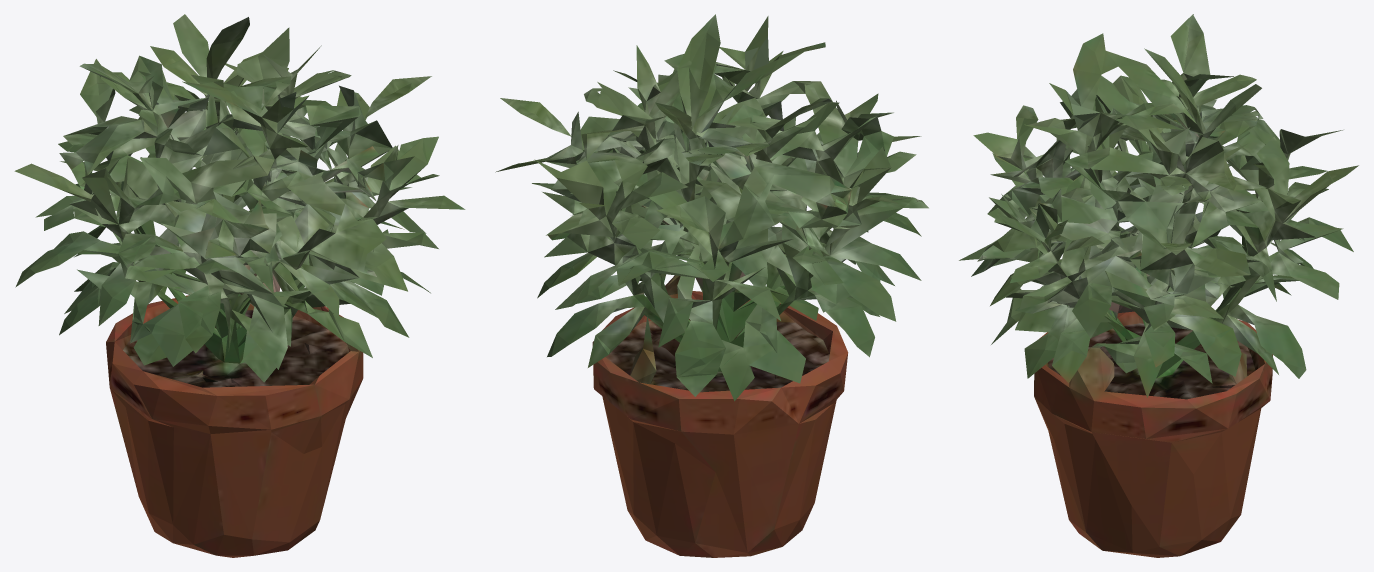
File: potplant.glb
The picture shows the model from 3 angles, left to right: view 1: azimuth 30°, elevation 25°; view 2: azimuth 150°, elevation 25°; view 3: azimuth 270°, elevation 25°; orthographic projection. The views are drawn at different scales.
Parts seen in each view (by area): view 1: potplant; view 2: potplant; view 3: potplant.
Part boxes in pixels (<box>): potplant: <box>14,14,465,557</box>; potplant: <box>495,14,928,557</box>; potplant: <box>959,14,1358,557</box>.
Size of the model in its own units: 0.6284 by 0.75 by 0.5617.
1 material, 1 textured.
